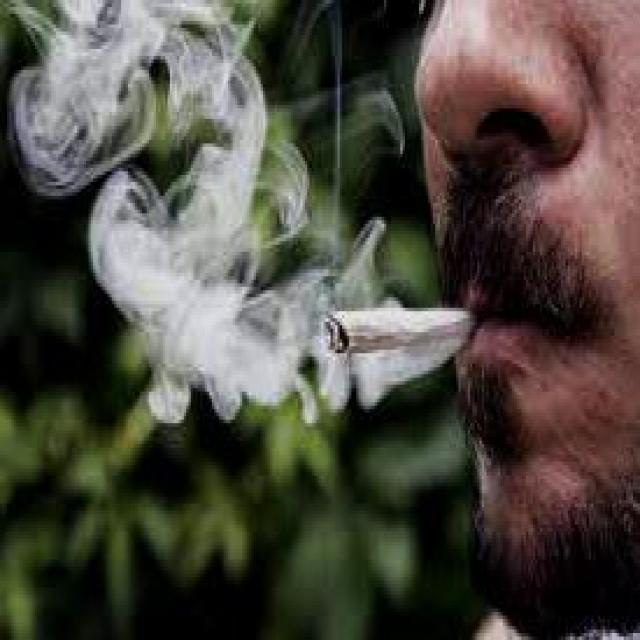cigarette: (324, 290, 477, 353)
